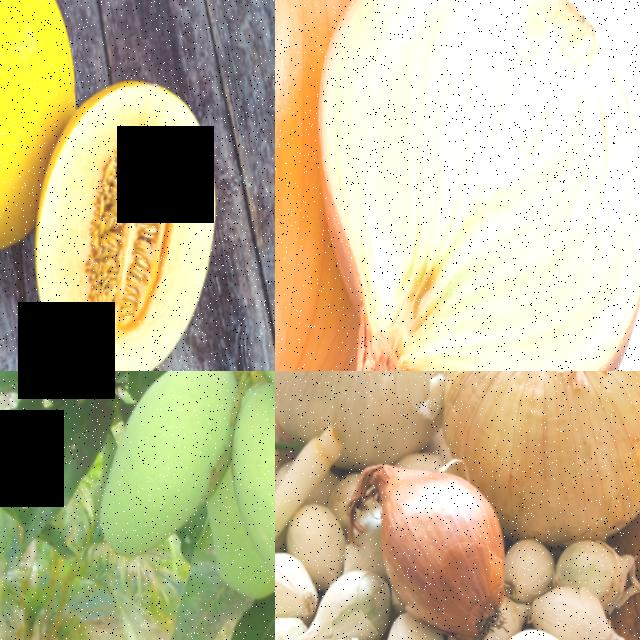mango: (83, 371, 251, 561), (227, 416, 275, 609)
melon: (37, 77, 241, 371), (0, 0, 53, 260)
onion: (304, 0, 640, 371), (275, 0, 354, 371), (478, 371, 640, 535), (381, 462, 515, 640)
